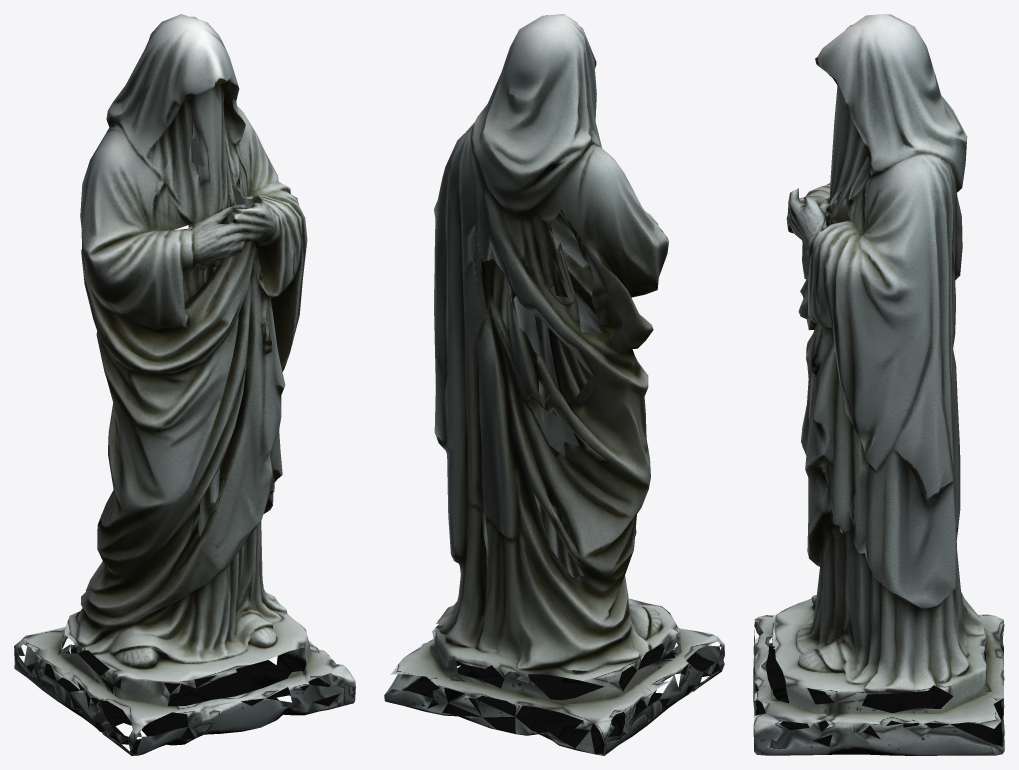
File: char-shroud-saint.glb
3 views of the same model, side by side, from view 1: azimuth 30°, elevation 25°; view 2: azimuth 150°, elevation 25°; view 3: azimuth 270°, elevation 25° (orthographic). The views are drawn at different scales.
Parts seen in each view (by area): view 1: geometry_0; view 2: geometry_0; view 3: geometry_0.
Part boxes in pixels (x1,y1,x2,y2): geometry_0: (14, 14, 355, 755); geometry_0: (384, 14, 724, 755); geometry_0: (753, 14, 1004, 755).
Bounding box in the file's own units: 0.349 × 0.9994 × 0.3311.
Materials: 1 (1 with a texture image).
